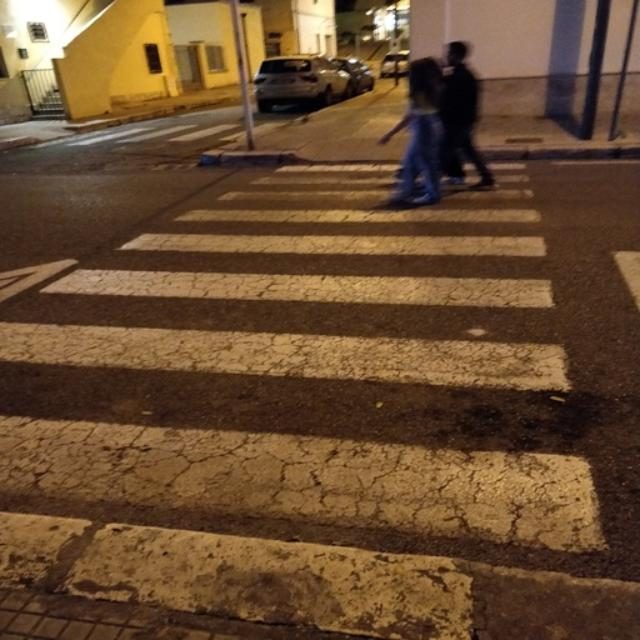sidewalk: (0, 162, 608, 552)
